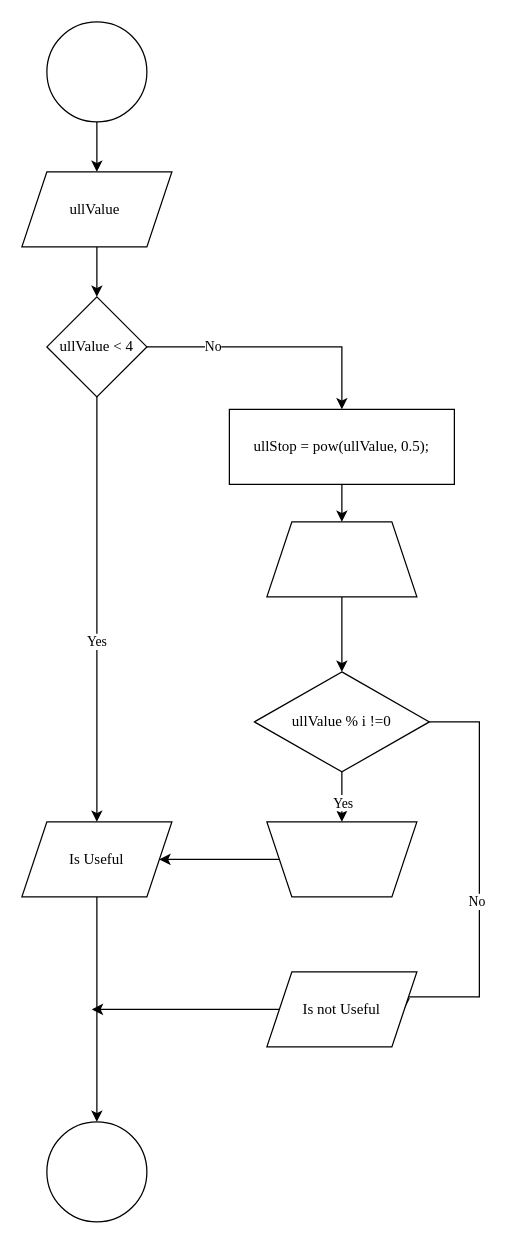
The diagram is 511 pixels wide and 1244 high, and some of its shapes have lost their labels. The centre of each missing label's shape, as x and y in pixels:
"Beg" goes at pixel 96 71.
"End" goes at pixel 96 1171.
"i = 2,...,ullStop" goes at pixel 341 559.
